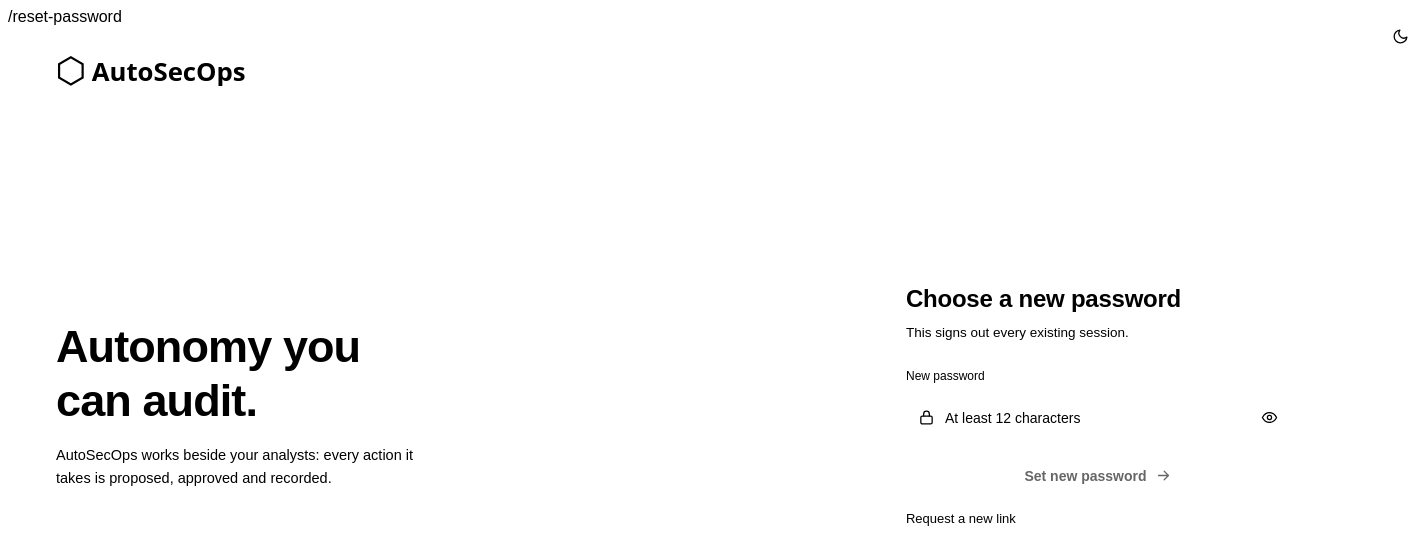
ResetPasswordScreen › shows the server detail and retires the spent link on a 400
Type "short" into the password field labelled "New password".
click(1098, 418); type("short")  # box [906,399,1290,437]
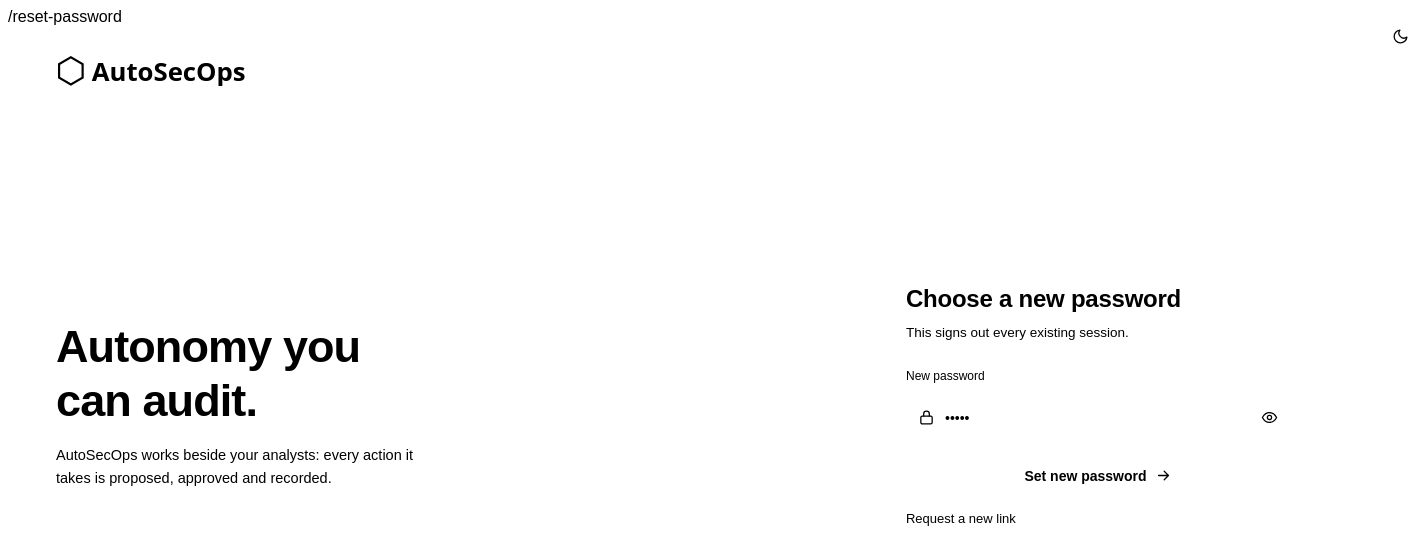
Click the button "Set new password".
click(1098, 476)  # box [906,453,1290,499]
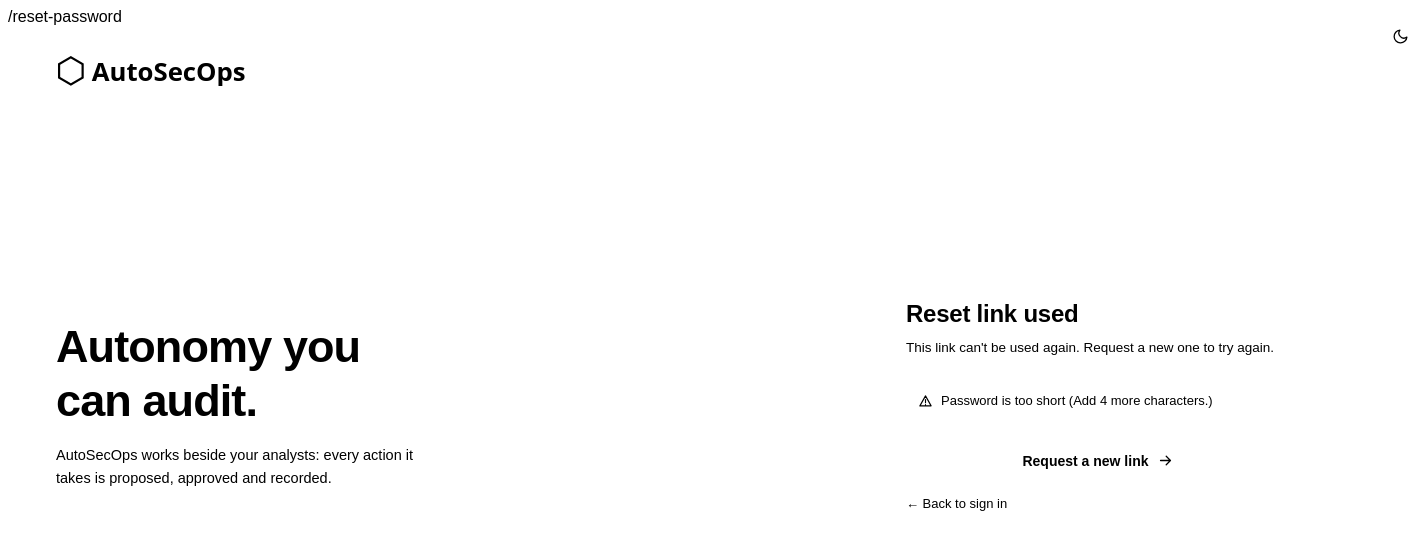
Result: the message shows "Password is too short" at [941,393,1213,408]
Result: the heading "Reset link used" is shown at [906,300,1078,327]
Result: the heading labelled "new password" is gone
